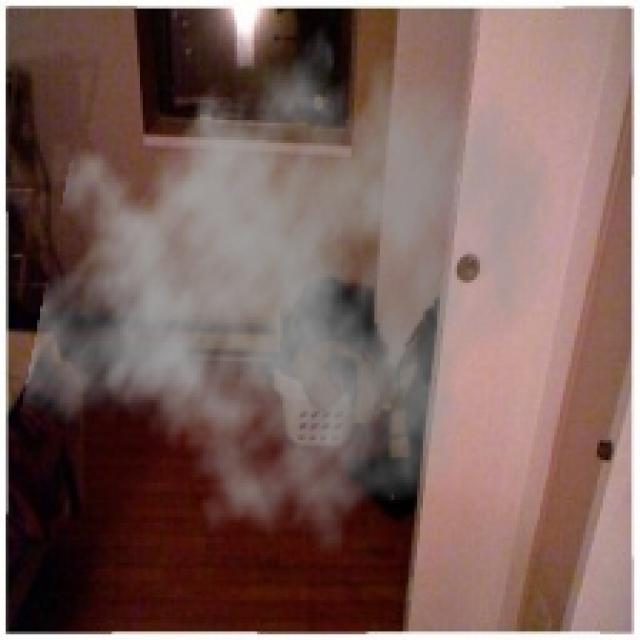smoke: (20, 3, 560, 557)
